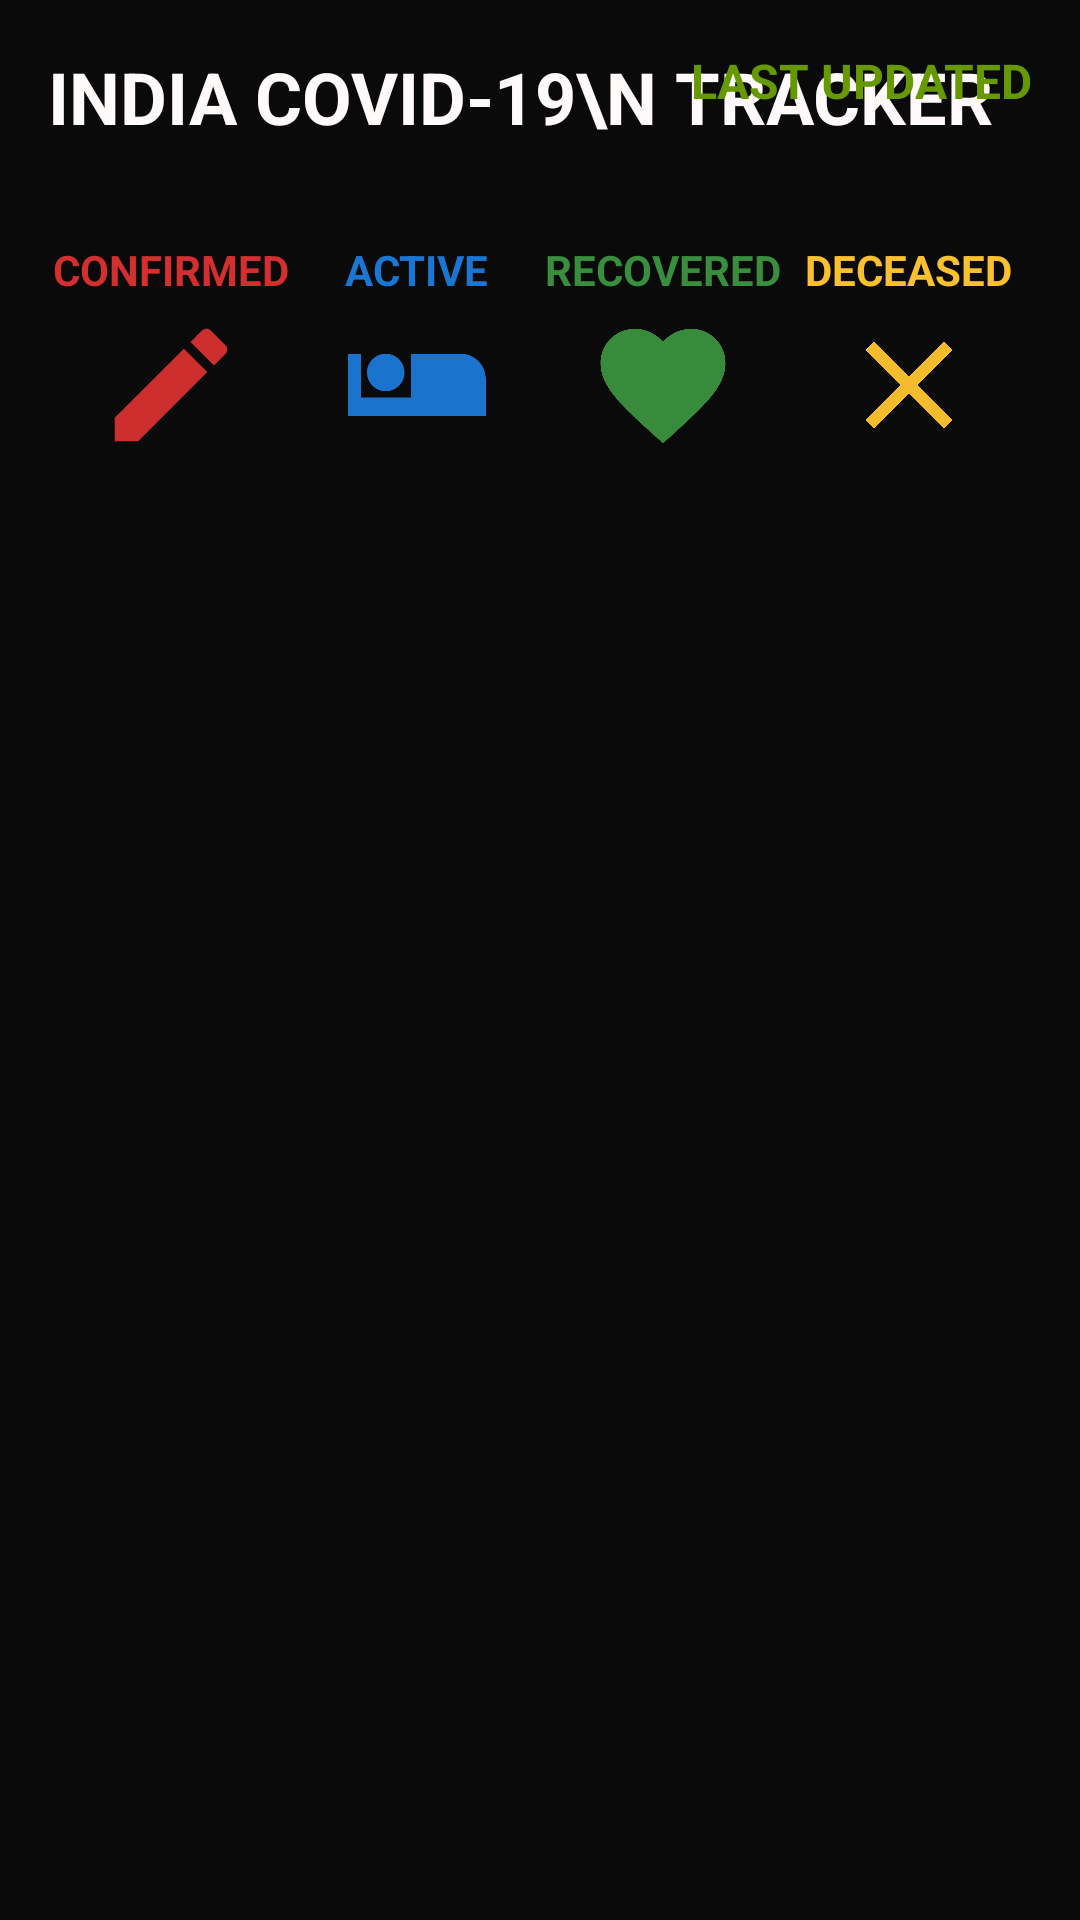

Icon click points for this 1080 × 1920 phone screenshot, format point (x, y):
heart: point (663, 386)
patient: point (417, 385)
